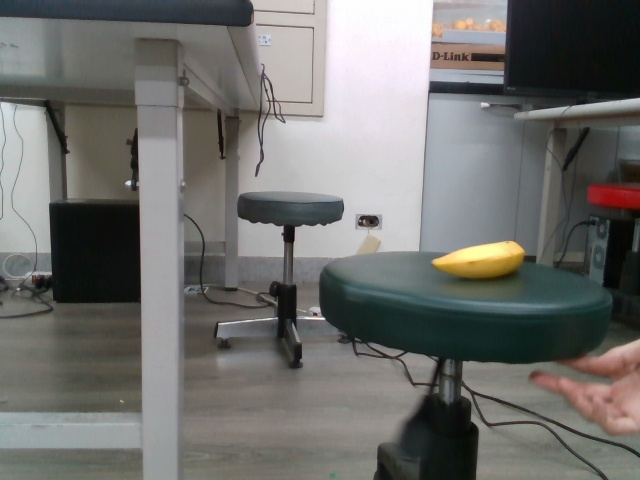banana: (428, 236, 528, 280)
